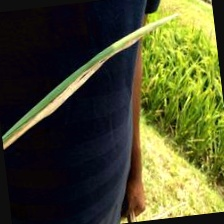Leaf_Blast: (4, 62, 117, 136)
